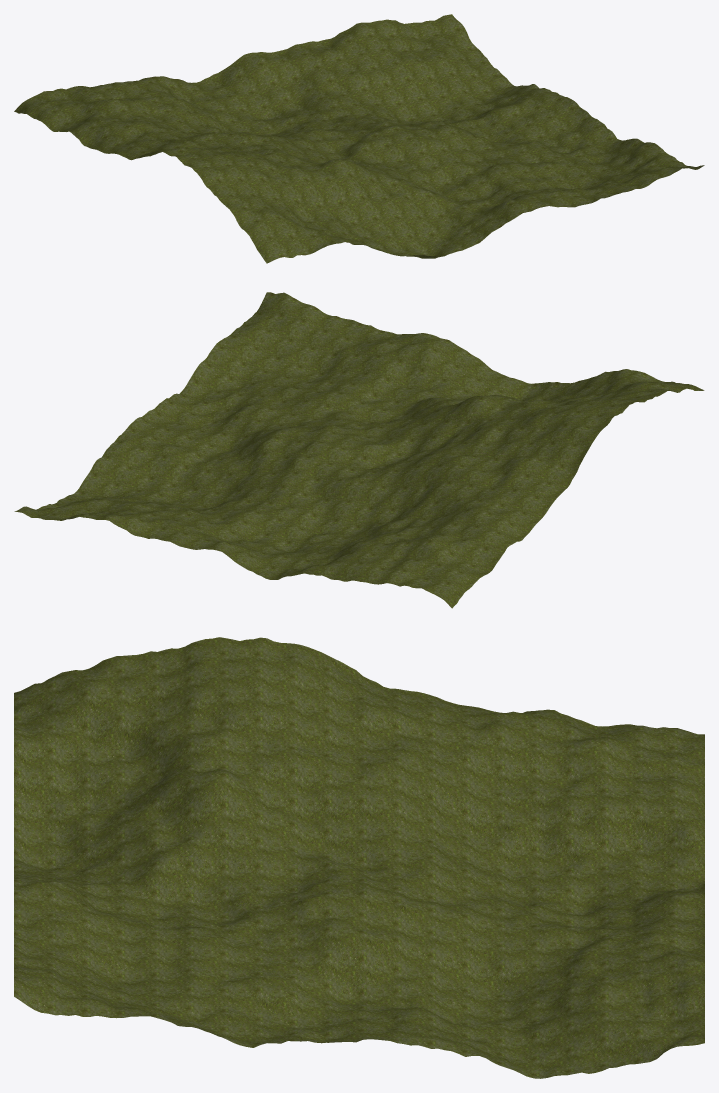
File: map.glb
3 views of the same model, one above another, from view 1: azimuth 30°, elevation 25°; view 2: azimuth 150°, elevation 25°; view 3: azimuth 270°, elevation 25° (orthographic). The views are drawn at different scales.
Parts seen in each view (by area): view 1: Plane; view 2: Plane; view 3: Plane.
Part boxes in pixels (bbox=[...]): Plane: bbox=[14, 14, 704, 263]; Plane: bbox=[14, 292, 704, 608]; Plane: bbox=[14, 637, 704, 1078].
Size of the model in its own units: 2000 by 484 by 2000.
1 material, 1 textured.
